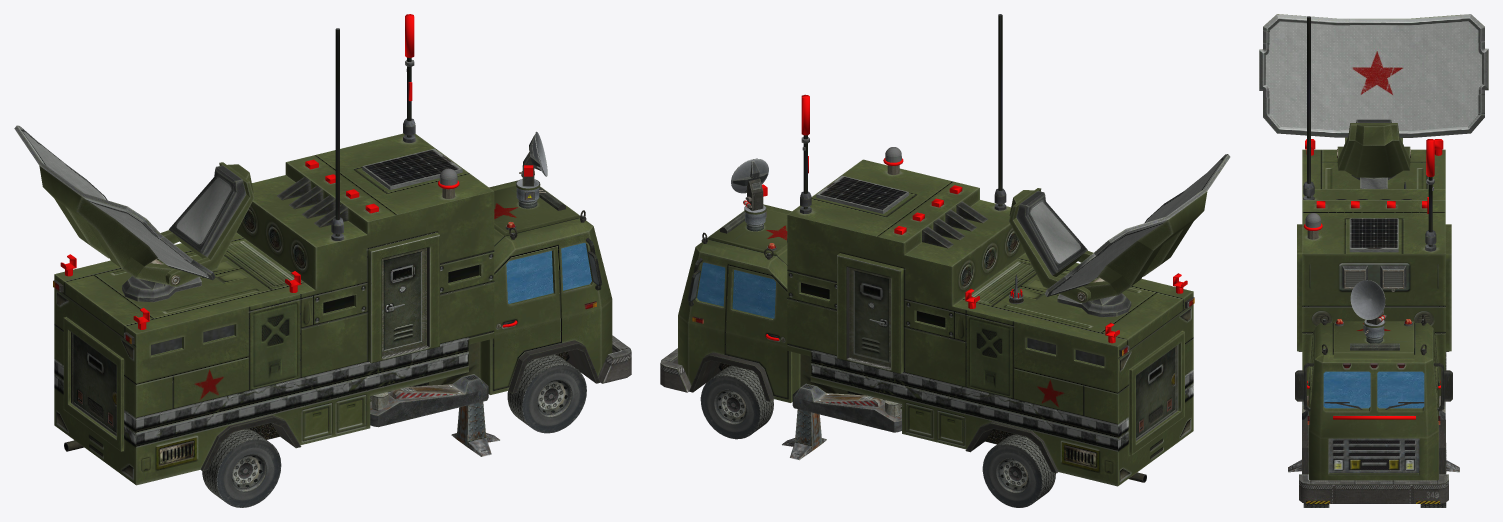
Rendered from vehicle.glb.
3 views of the same model, side by side, from view 1: azimuth 30°, elevation 25°; view 2: azimuth 150°, elevation 25°; view 3: azimuth 270°, elevation 25° (orthographic). The views are drawn at different scales.
Parts seen in each view (by area): view 1: Obj3d66-9729229-5-407, Obj3d66-9729229-4-681, Obj3d66-9729229-6-109, Obj3d66-9729229-2-120, Obj3d66-9729229-3-197; view 2: Obj3d66-9729229-5-407, Obj3d66-9729229-4-681, Obj3d66-9729229-6-109, Obj3d66-9729229-2-120, Obj3d66-9729229-3-197; view 3: Obj3d66-9729229-5-407, Obj3d66-9729229-4-681, Obj3d66-9729229-2-120, Obj3d66-9729229-3-197, Obj3d66-9729229-6-109.
Part boxes in pixels (box(x1,y1,x2,y2)): Obj3d66-9729229-5-407: box(53, 28, 631, 485); Obj3d66-9729229-4-681: box(14, 125, 547, 297); Obj3d66-9729229-6-109: box(202, 354, 586, 507); Obj3d66-9729229-2-120: box(506, 243, 591, 303); Obj3d66-9729229-3-197: box(60, 14, 533, 329); Obj3d66-9729229-5-407: box(660, 14, 1194, 486); Obj3d66-9729229-4-681: box(731, 154, 1230, 313); Obj3d66-9729229-6-109: box(700, 366, 1055, 507); Obj3d66-9729229-2-120: box(697, 262, 775, 318); Obj3d66-9729229-3-197: box(743, 94, 1187, 343); Obj3d66-9729229-5-407: box(1288, 16, 1459, 503); Obj3d66-9729229-4-681: box(1259, 14, 1488, 343); Obj3d66-9729229-2-120: box(1323, 371, 1424, 408); Obj3d66-9729229-3-197: box(1303, 139, 1443, 419); Obj3d66-9729229-6-109: box(1303, 352, 1446, 507).
Size of the model in its own units: 2.08 by 1.69 by 0.8831.
Materials: 5 (4 with a texture image).
